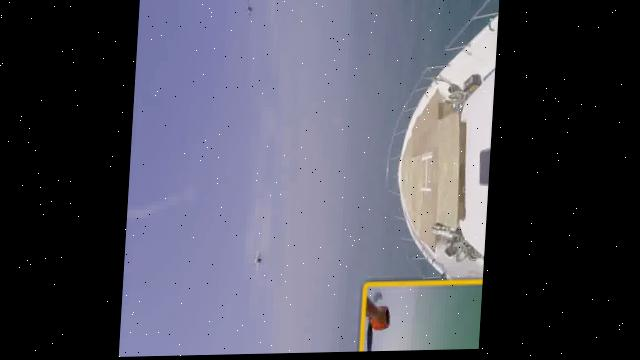drone: (250, 244, 273, 274), (240, 0, 258, 23)
